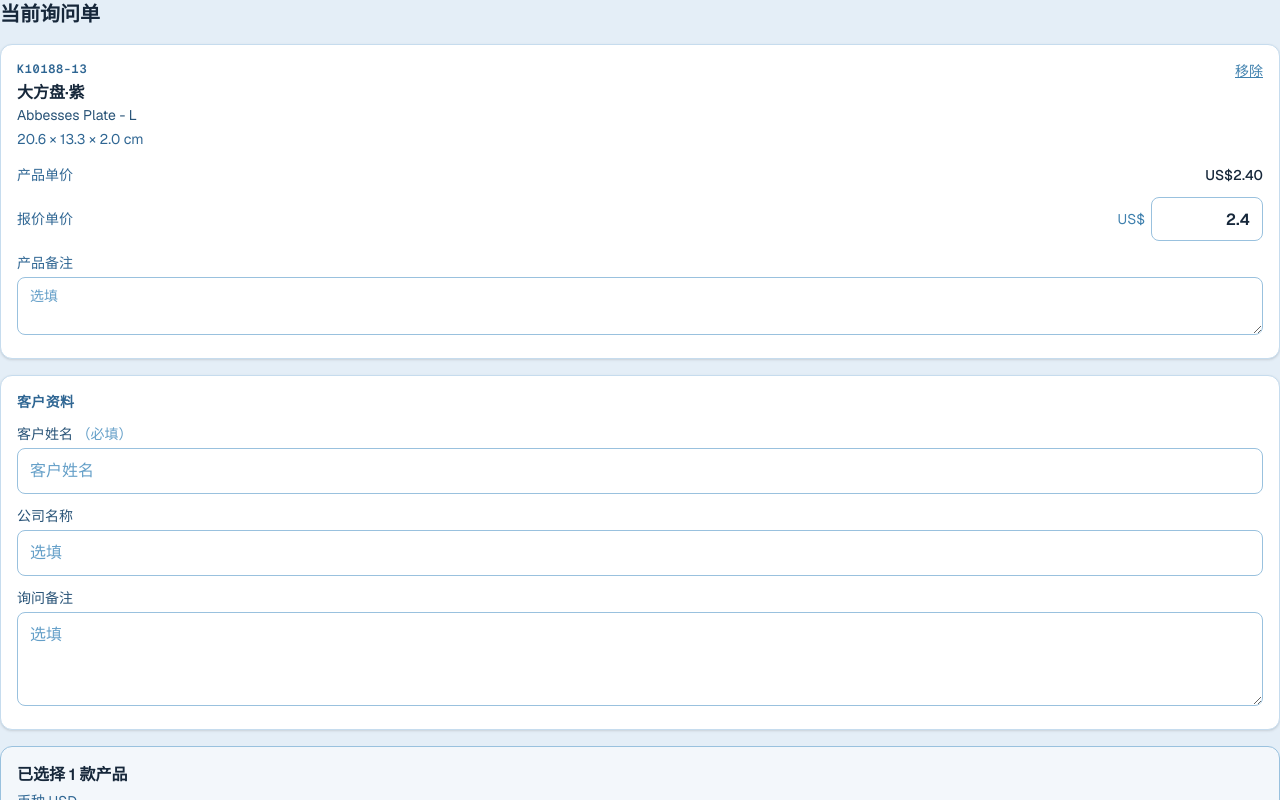
Test: submission › locks the inquiry after a successful save and shows only 开始下一次询问
The image size is (1280, 800).
Type "Ada Lovelace" into the field labelled "客户姓名 （必填）".
click(640, 471); type("Ada Lovelace")  # box left=17, top=448, right=1263, bottom=494
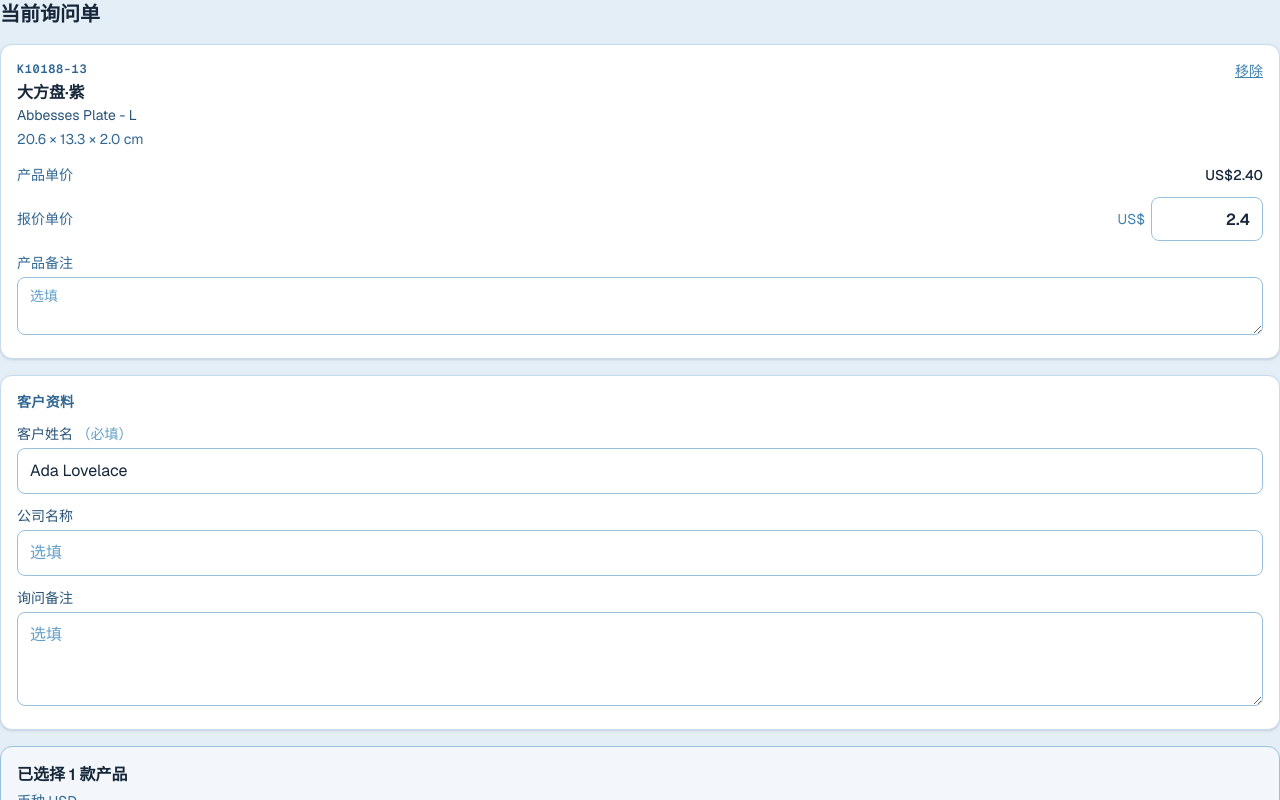
Type "Koei" into the field labelled "公司名称".
click(640, 553); type("Koei")  # box left=17, top=530, right=1263, bottom=576
(page scrolled)
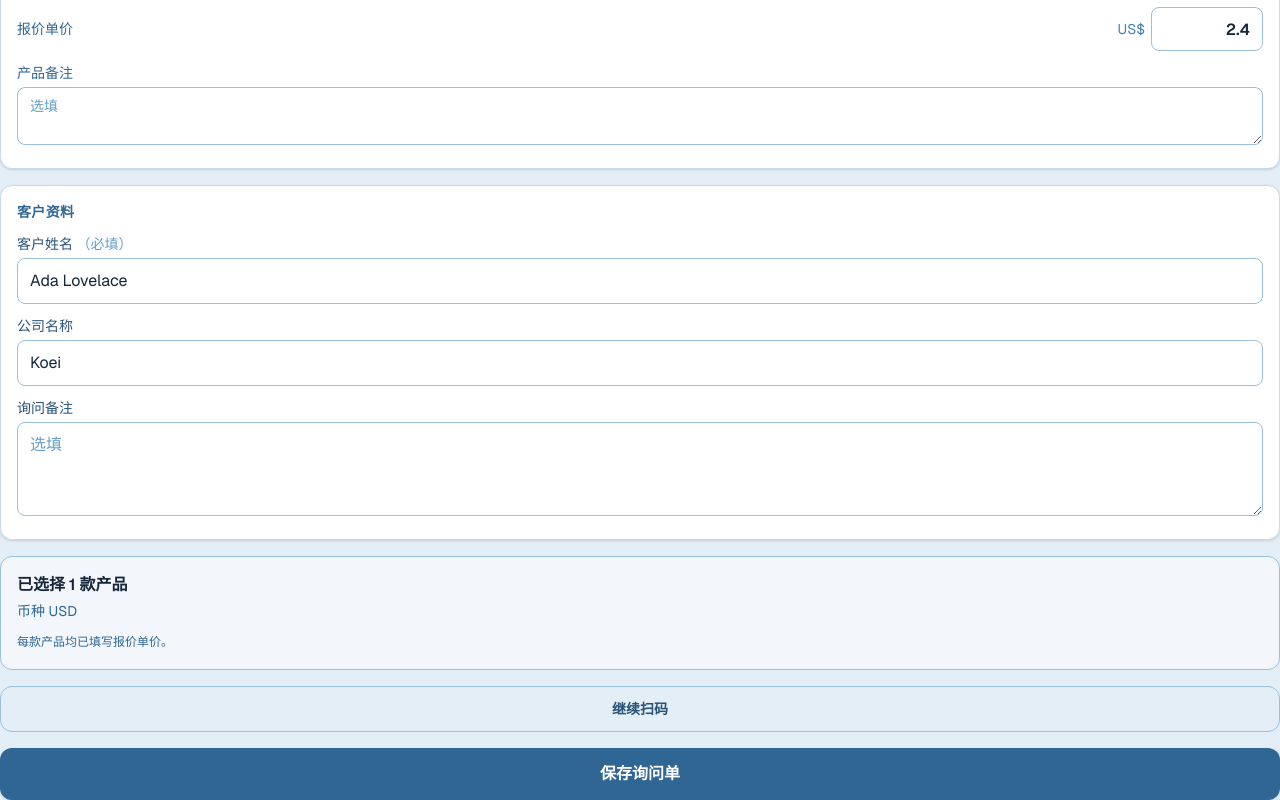
Click the button "保存询问单".
click(640, 774)  # box left=0, top=748, right=1279, bottom=799
(page scrolled)
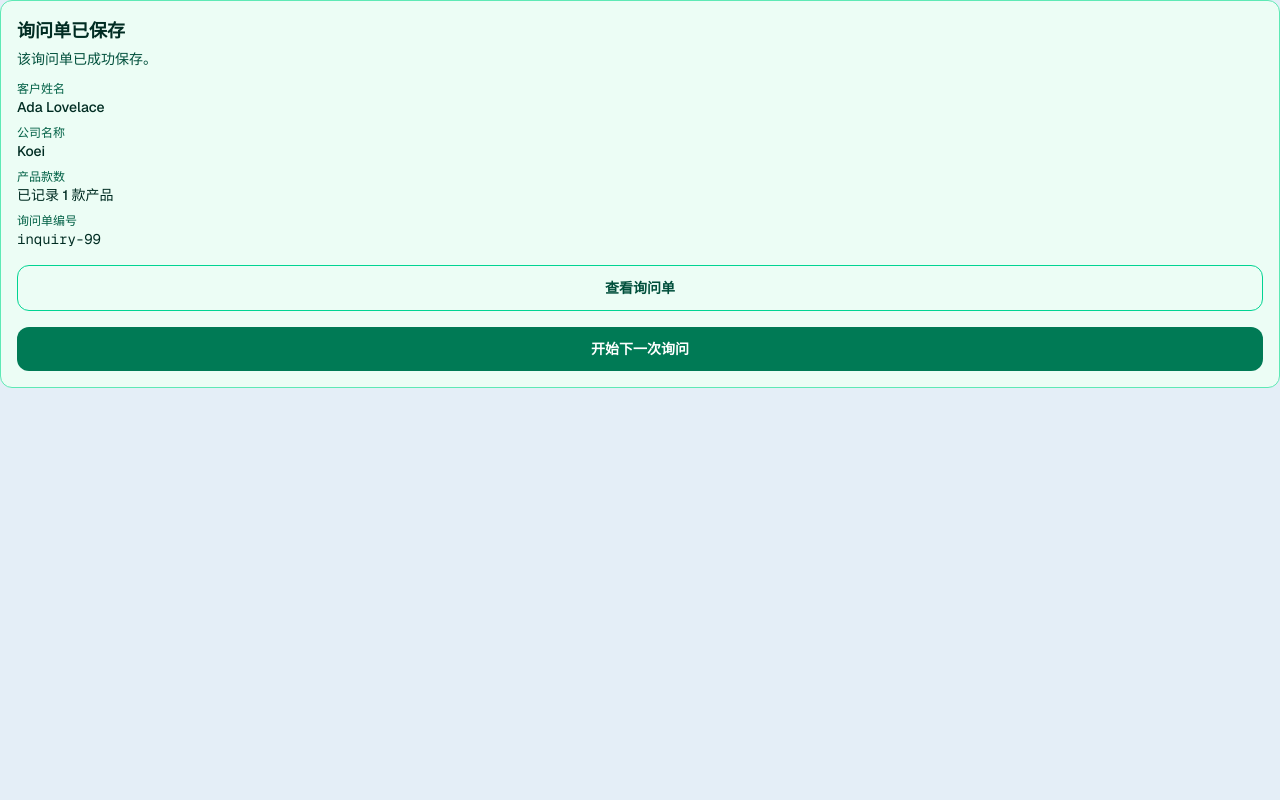
Expected: the text "inquiry-99" is shown, left=17, top=230, right=101, bottom=248
Expected: the text "询问单已保存" is shown, left=17, top=19, right=125, bottom=42
Expected: the text "该询问单已成功保存。" is shown, left=17, top=50, right=157, bottom=68
